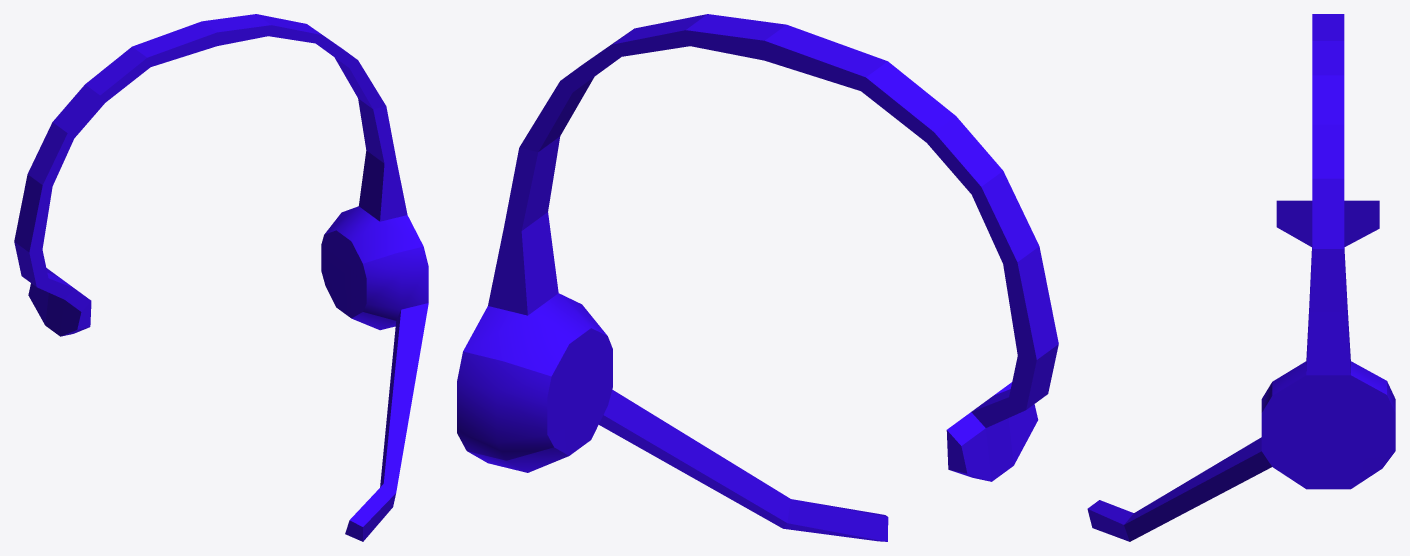
The model's file is office_pack_oneEarHeadset_1_meshCollider.fbx.
3 views of the same model, side by side, from view 1: azimuth 30°, elevation 25°; view 2: azimuth 150°, elevation 25°; view 3: azimuth 270°, elevation 25° (orthographic). The views are drawn at different scales.
Visible parts, largest first — view 1: office_pack_oneEarHeadset_1_meshCollider; view 2: office_pack_oneEarHeadset_1_meshCollider; view 3: office_pack_oneEarHeadset_1_meshCollider.
Boxes of the visible parts, <box> form: office_pack_oneEarHeadset_1_meshCollider: <box>14,14,428,541</box>; office_pack_oneEarHeadset_1_meshCollider: <box>457,14,1058,541</box>; office_pack_oneEarHeadset_1_meshCollider: <box>1087,14,1395,541</box>.
Bounding box in the file's own units: 35.3 × 39.82 × 23.88.
